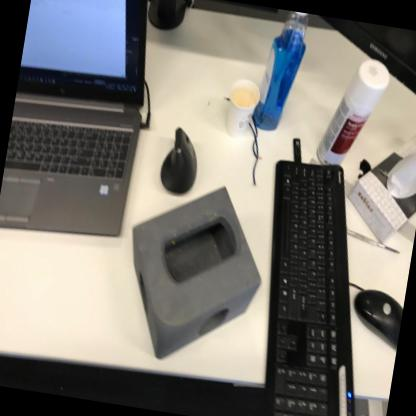CornerCasting: (110, 169, 276, 379)
